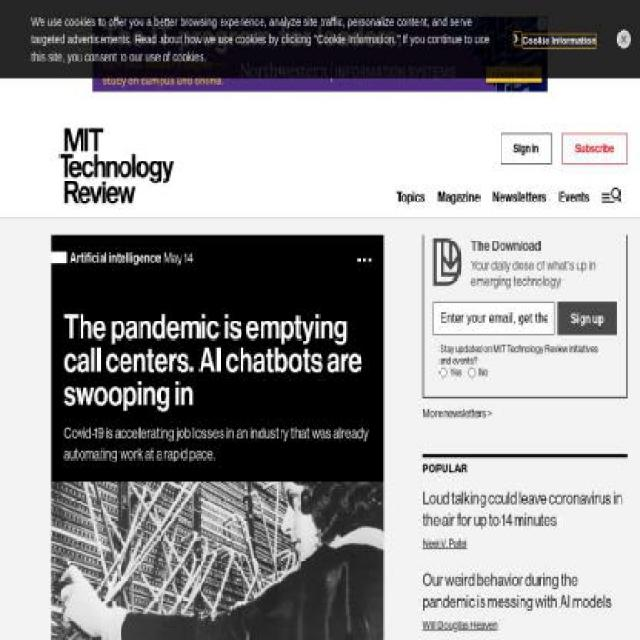button: (51, 481, 383, 640), (422, 488, 627, 532), (422, 570, 627, 613), (64, 133, 167, 218), (486, 176, 552, 218), (431, 176, 486, 218), (562, 133, 628, 164), (557, 302, 617, 336), (552, 176, 596, 218), (390, 176, 432, 218), (500, 133, 552, 164), (595, 176, 628, 218), (521, 34, 597, 49)
field: (433, 302, 555, 336), (439, 368, 447, 378), (468, 368, 475, 378)
